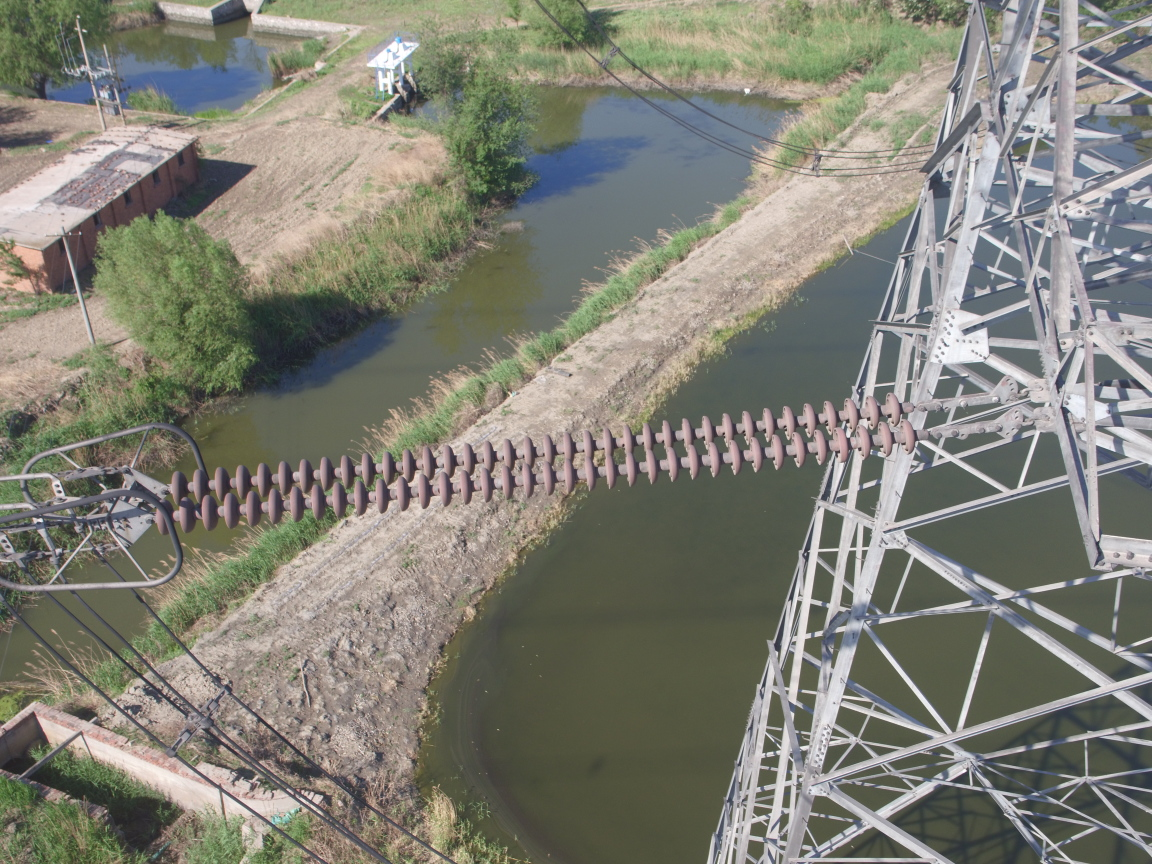insulator: (132, 389, 963, 535)
